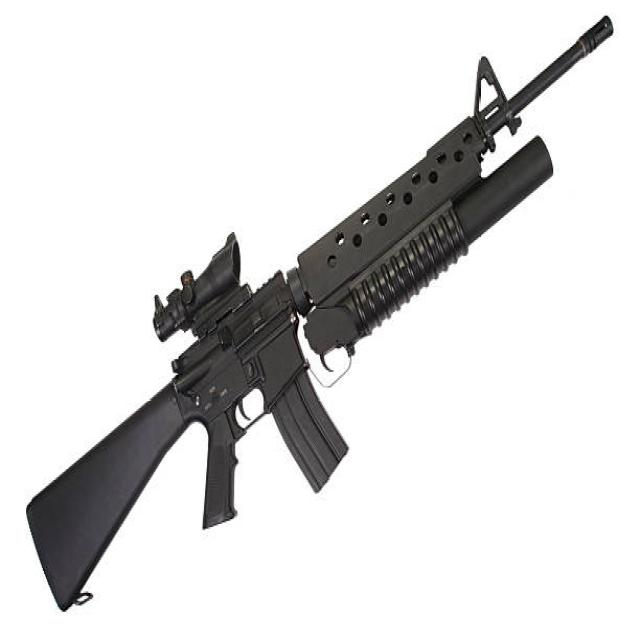rifle: (24, 13, 616, 624)
